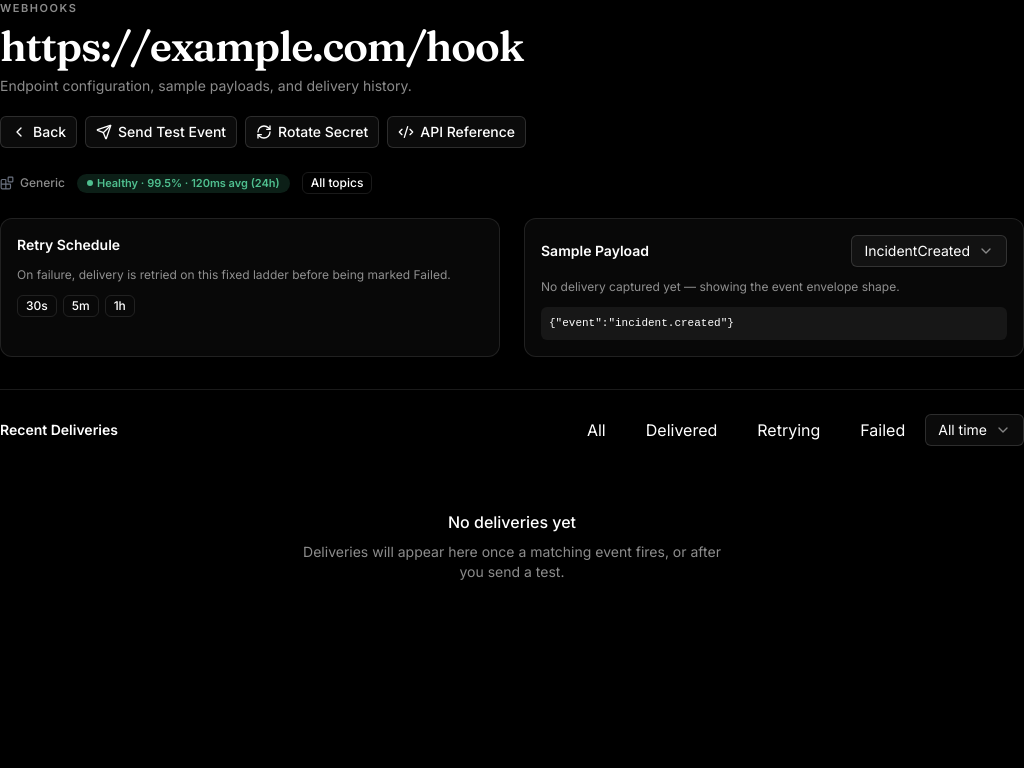
Scenario: WebhookDetailPage — header › rotates the secret and reveals it
The image size is (1024, 768).
Click the button "Rotate Secret": (312, 132) [245,116,379,148]
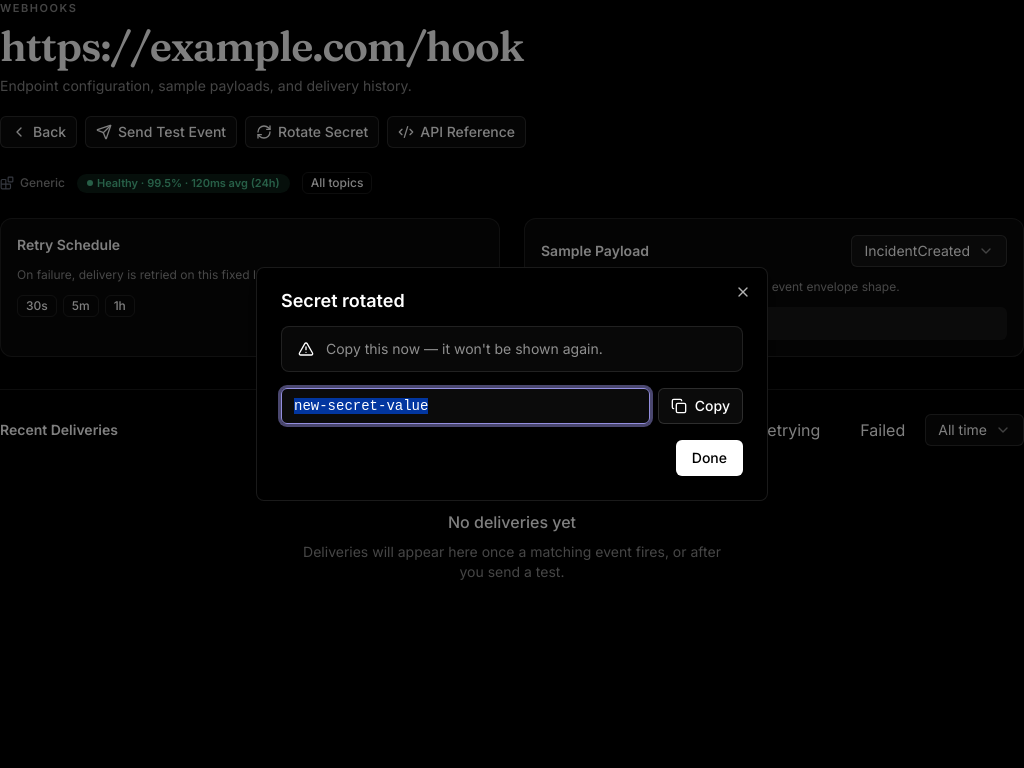
Check: the field showing "new-secret-value" is shown, box [281,388,650,424]
